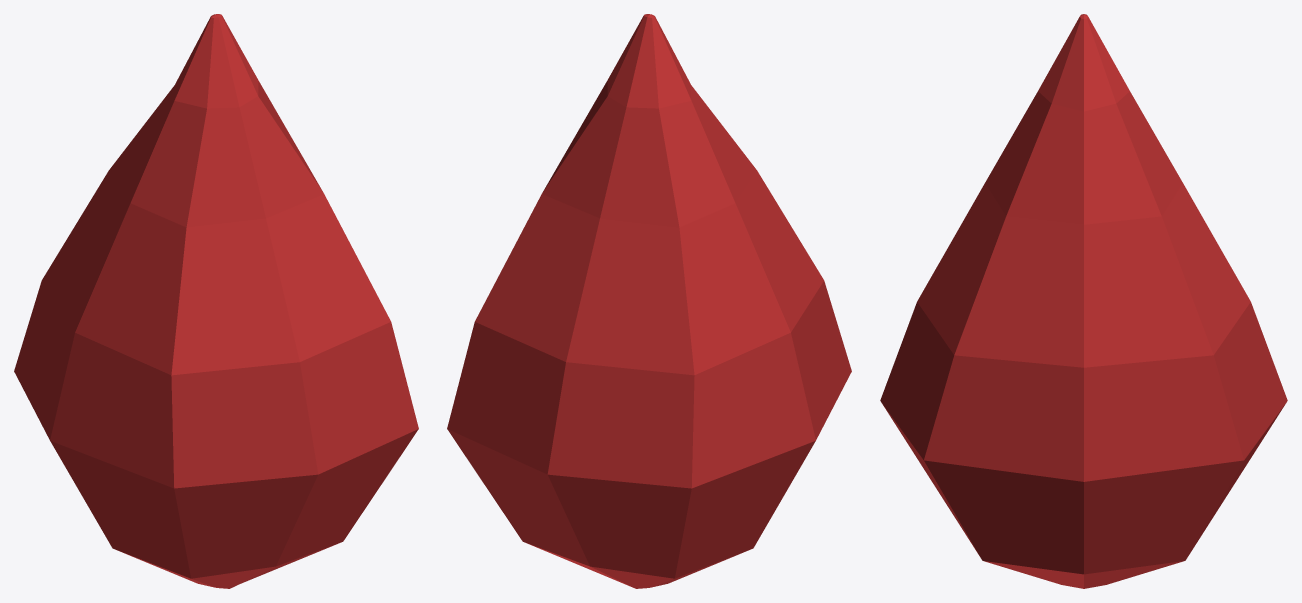
File: BloodDrop.fbx
3 renders of one model, left to right at view 1: azimuth 30°, elevation 25°; view 2: azimuth 150°, elevation 25°; view 3: azimuth 270°, elevation 25°, orthographic.
Parts seen in each view (by area): view 1: pCube1; view 2: pCube1; view 3: pCube1.
Part boxes in pixels (x1,y1,x2,y2): pCube1: (14,14,418,588); pCube1: (447,14,851,588); pCube1: (880,14,1287,588).
Bounding box in the file's own units: 4.56 × 7.51 × 4.83.
